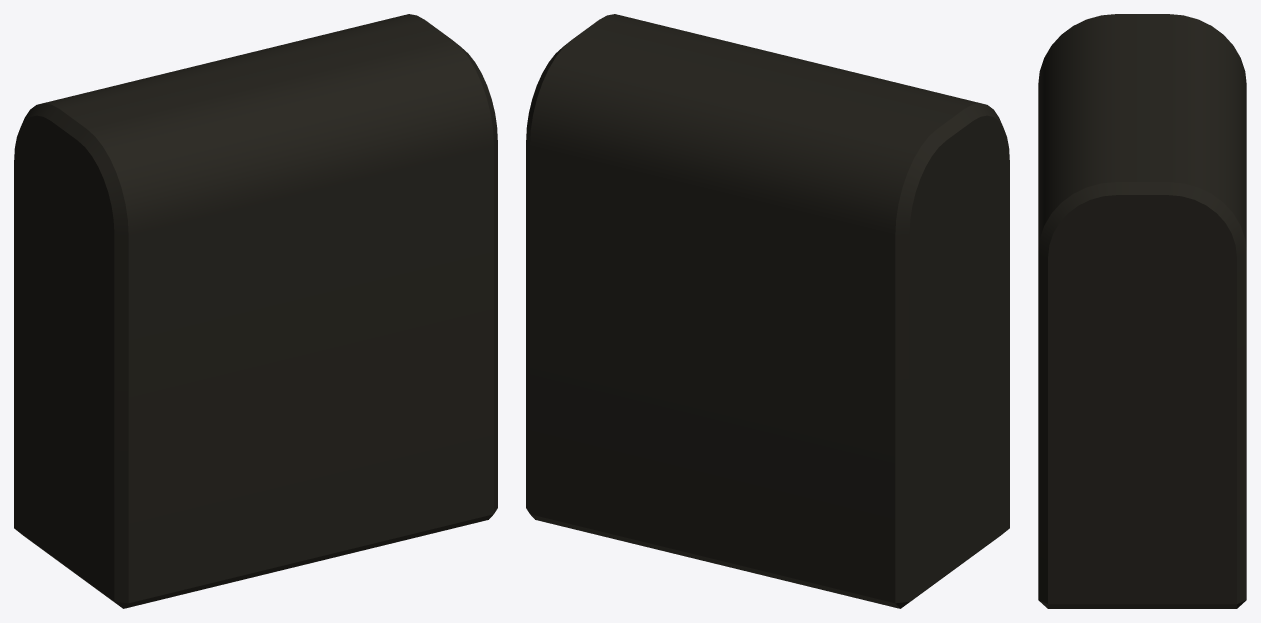
Rendered from HeadBase.fbx.
3 renders of one model, left to right at view 1: azimuth 30°, elevation 25°; view 2: azimuth 150°, elevation 25°; view 3: azimuth 270°, elevation 25°, orthographic. The views are drawn at different scales.
Parts seen in each view (by area): view 1: HeadBase; view 2: HeadBase; view 3: HeadBase.
Boxes of the visible parts, left/top/right/bottom form: HeadBase: left=14, top=14, right=497, bottom=608; HeadBase: left=526, top=14, right=1009, bottom=608; HeadBase: left=1038, top=14, right=1246, bottom=608.
Bounding box in the file's own units: 4.25 × 4.8 × 2.12.
